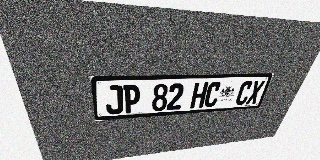2: (166, 83, 185, 110)
8: (152, 83, 169, 111)
C: (234, 81, 254, 105), (203, 82, 222, 107)
H: (190, 82, 209, 108)
J: (104, 85, 123, 115)
P: (123, 84, 140, 113)
X: (245, 81, 265, 104)
